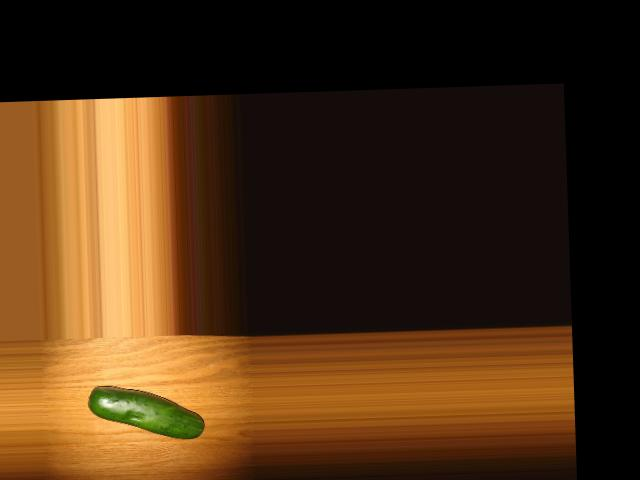cucumber: (89, 382, 205, 441)
